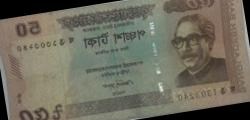50 taka: (11, 1, 240, 120)
